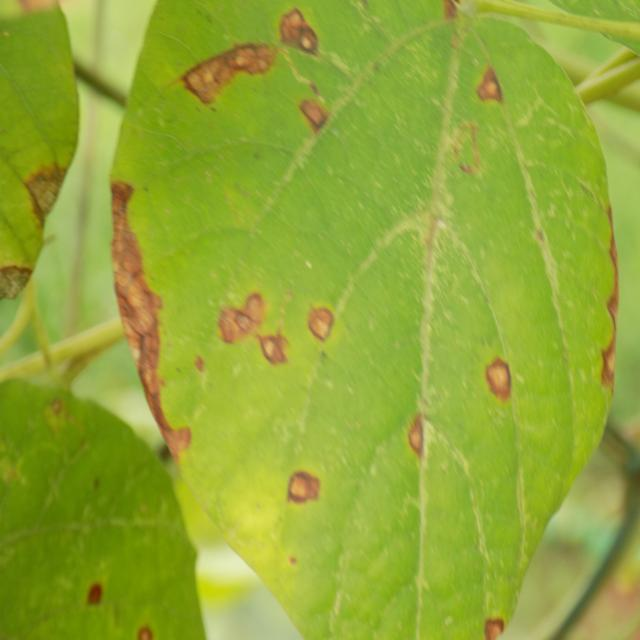Dolicos bean_cercospora leaf spot: (107, 0, 619, 640)
